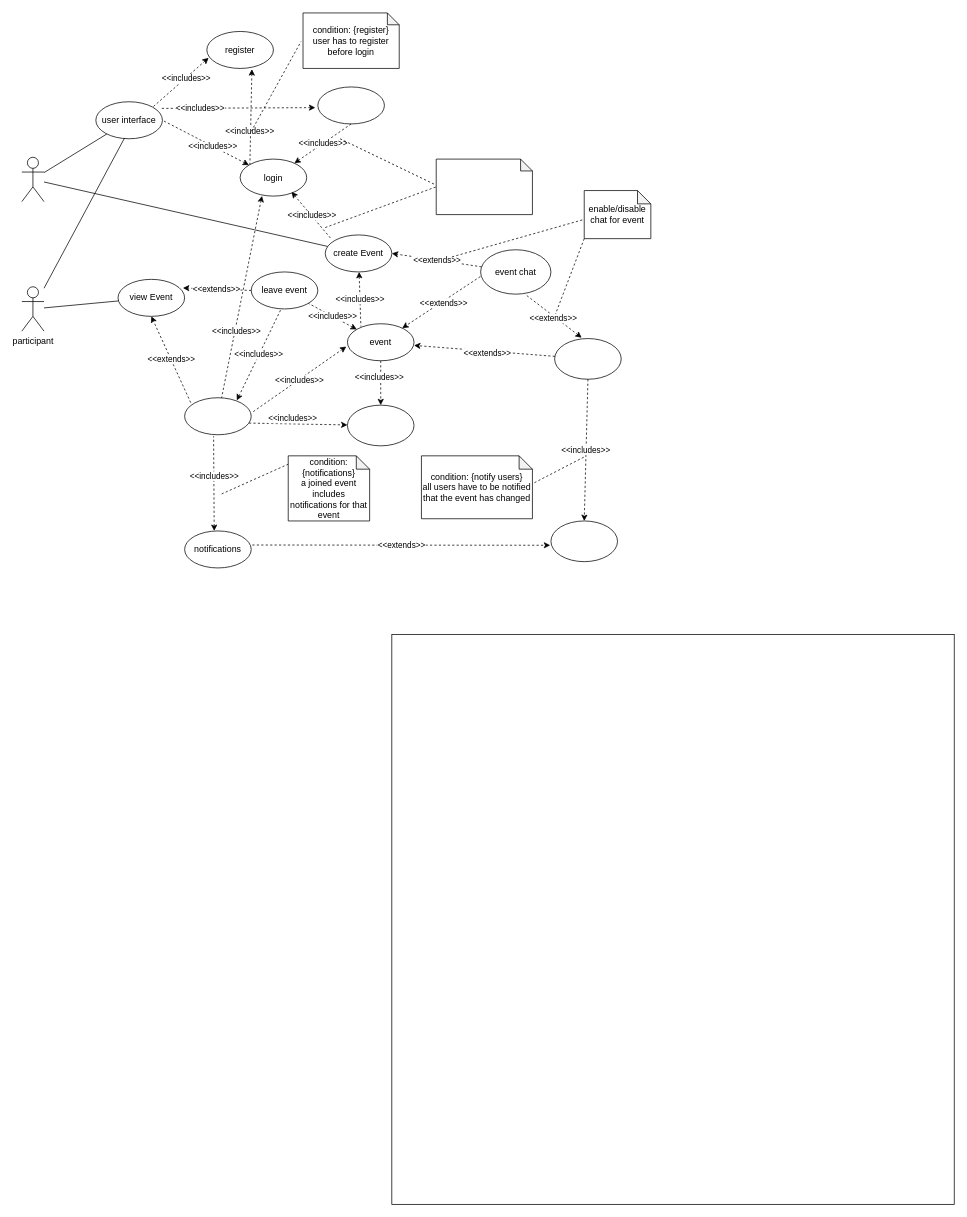
This 967x1217 diagram has some shape labels left out. Each missing label, with the centre of its shape:
"condition: {login} user has to be logged in" belongs at [483,186].
"join event" belongs at [217,416].
"manage profile" belongs at [350,105].
"manage running event" belongs at [587,358].
"notify users" belongs at [584,541].
"organizer" belongs at [32,179].
"view member list" belongs at [380,425].
